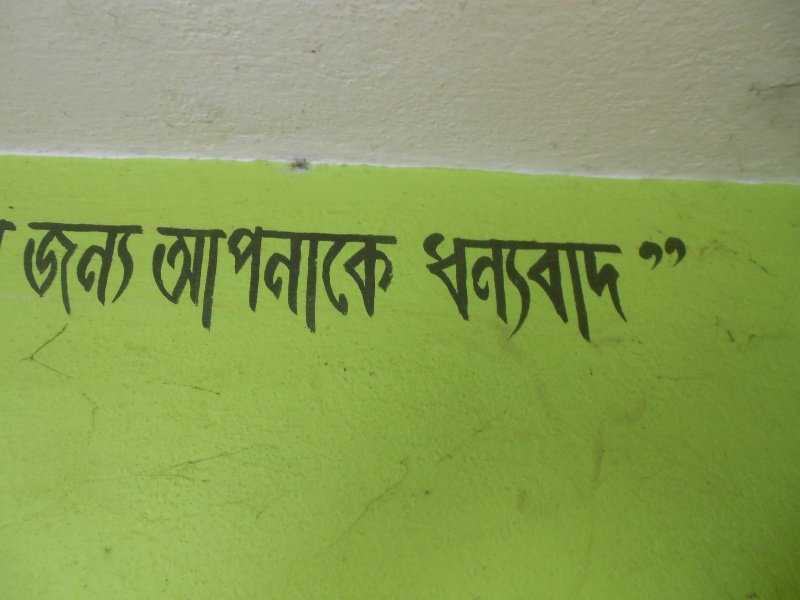text: (433, 231, 448, 351), (449, 231, 464, 351), (465, 231, 480, 351), (481, 231, 496, 351), (497, 231, 512, 351), (513, 231, 528, 351), (529, 231, 544, 351), (545, 231, 560, 351), (561, 231, 576, 351), (577, 231, 592, 351), (593, 231, 608, 351), (609, 231, 624, 351), (161, 221, 176, 336), (177, 221, 192, 336), (193, 221, 208, 336), (209, 221, 224, 336), (225, 221, 240, 336), (241, 221, 256, 336), (257, 221, 272, 336), (273, 221, 288, 336), (289, 221, 304, 336), (305, 221, 320, 336), (321, 221, 336, 336), (337, 221, 352, 336), (353, 221, 368, 336), (369, 221, 384, 336), (385, 221, 399, 336), (33, 220, 48, 317), (49, 220, 64, 317), (65, 220, 80, 317), (81, 220, 96, 317), (97, 220, 112, 317), (113, 220, 128, 317), (129, 220, 144, 317), (422, 231, 432, 351), (625, 231, 635, 351), (2, 203, 16, 269), (24, 220, 32, 317), (641, 234, 656, 275), (657, 234, 672, 275), (673, 234, 688, 275), (155, 221, 160, 336), (631, 234, 640, 275), (689, 234, 690, 275)
